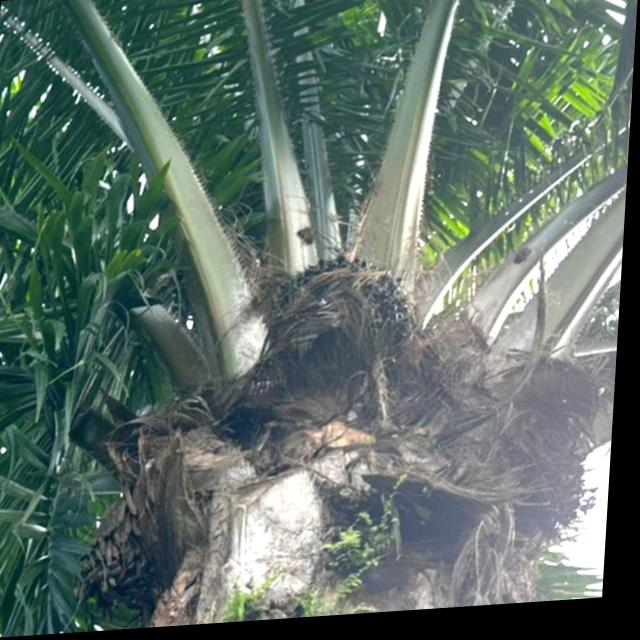unripe: (250, 248, 421, 415)
